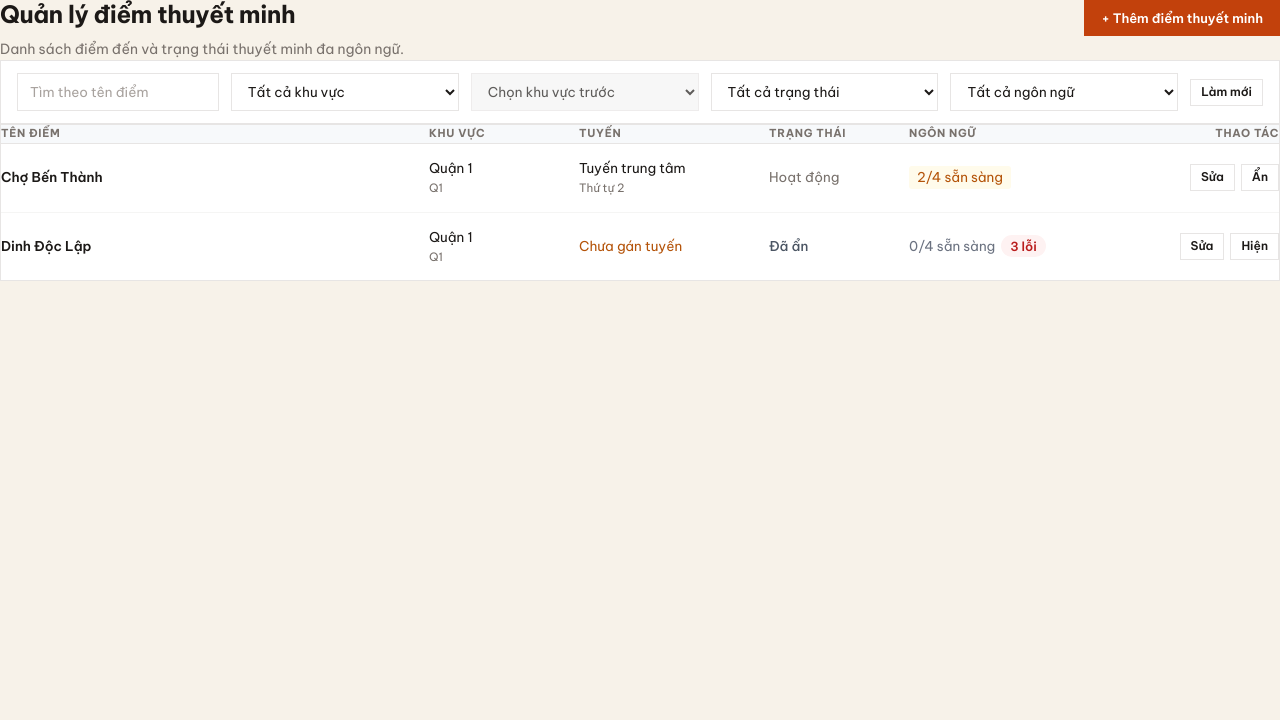
it: PoiListPage › chỉ mở một popover ngôn ngữ tại một thời điểm
Later steps or results of the test are not shown.
Expected: the link "Chợ Bến Thành" is shown, [1,168,102,186]
Click the button with aria-label "Xem trạng thái ngôn ngữ của Chợ Bến Thành" at (960, 178), box [909,166,1011,189]
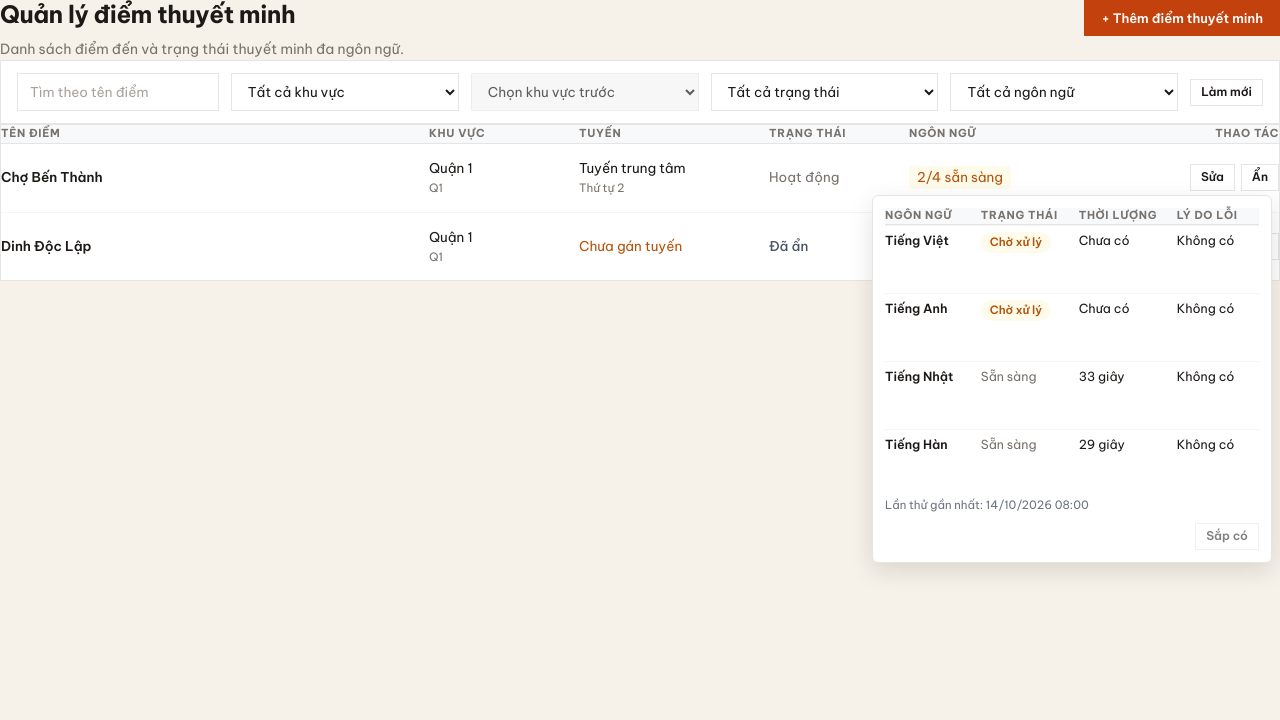
Result: the dialog is shown at [872,195,1272,563]
